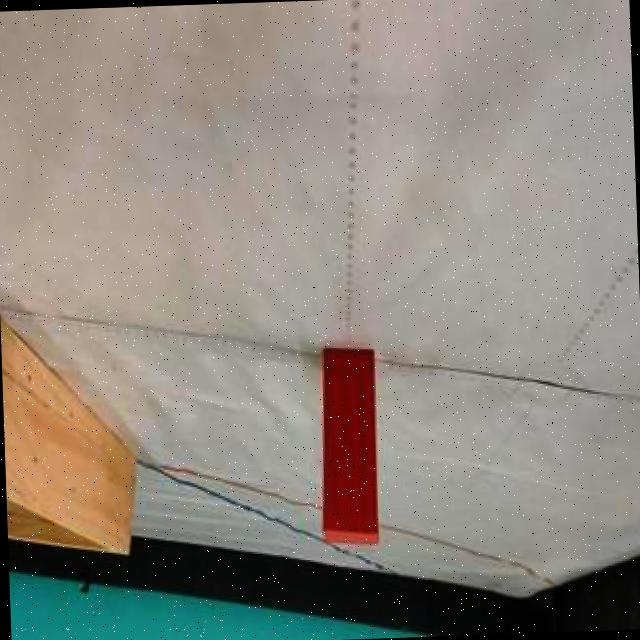redbox: (318, 346, 382, 550)
